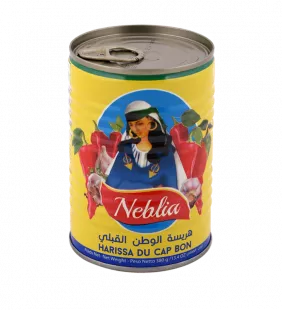NEBLIA: (60, 19, 221, 284)
